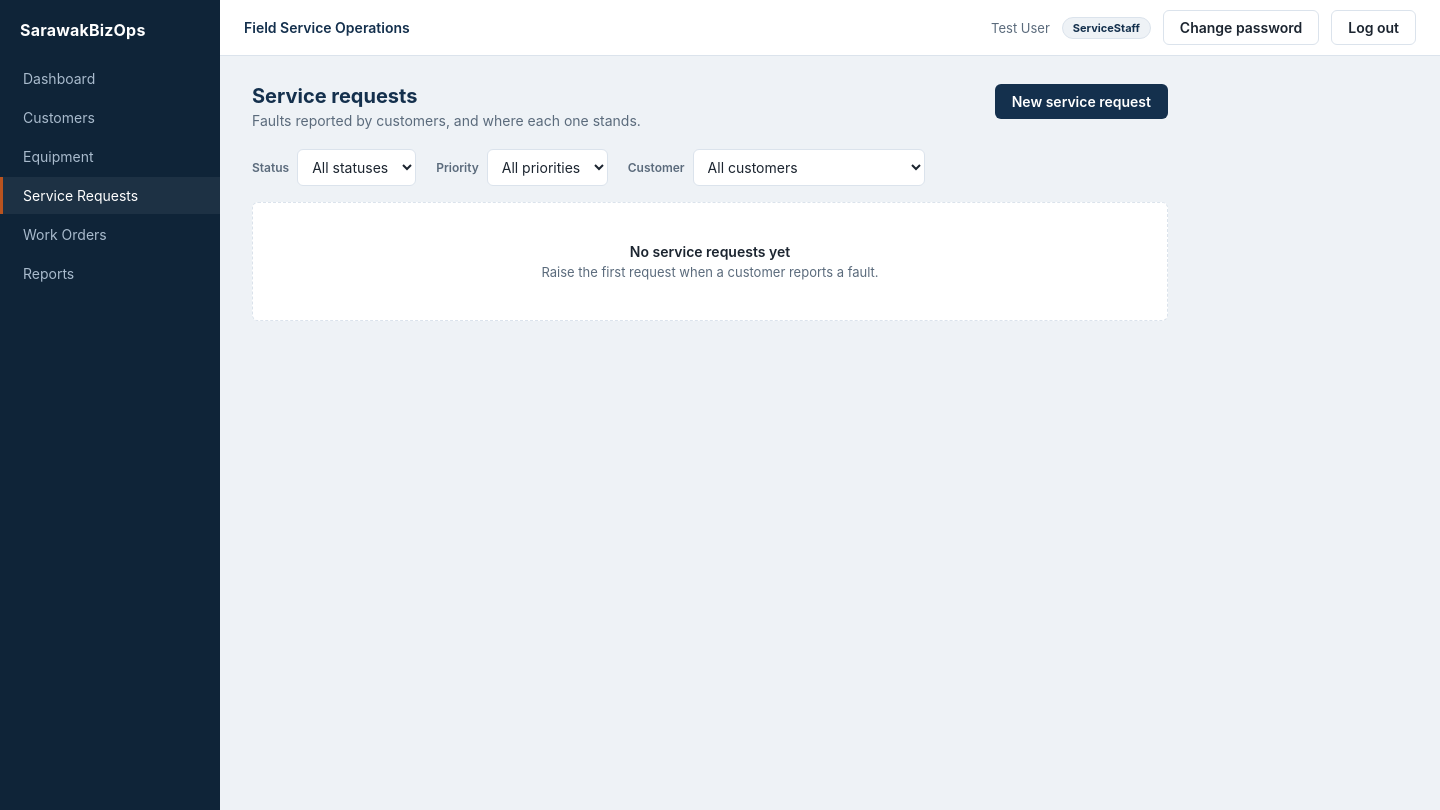
Test: Raising a request › shows the API message when the request is refused
The width and height of the screenshot is (1440, 810).
Click the button "New service request" at [1081, 102], box [995, 84, 1168, 119]
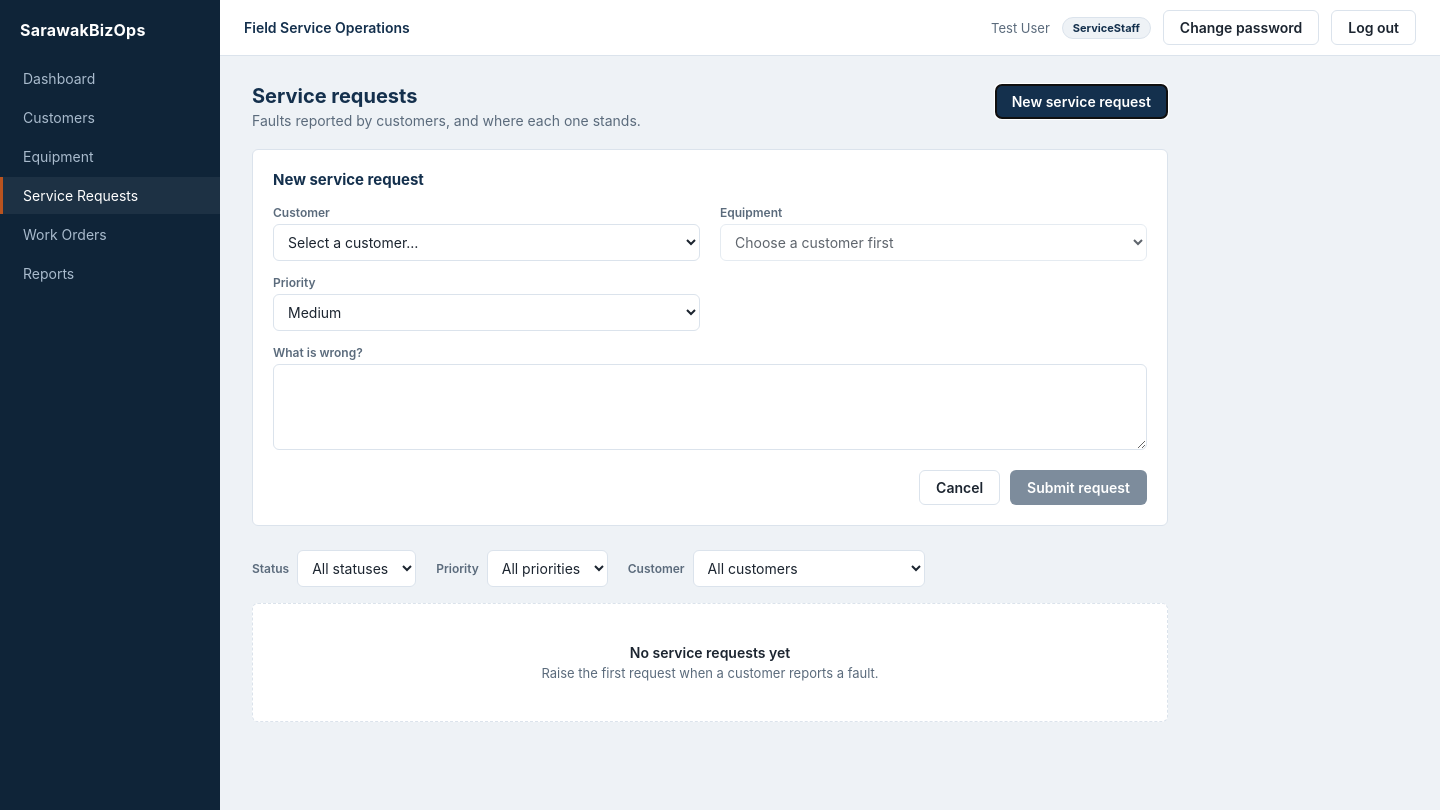
Select "Rajang Timber Mills Sdn Bhd" in the 1st dropdown labelled "Customer" at [486, 242], box [273, 224, 700, 261]
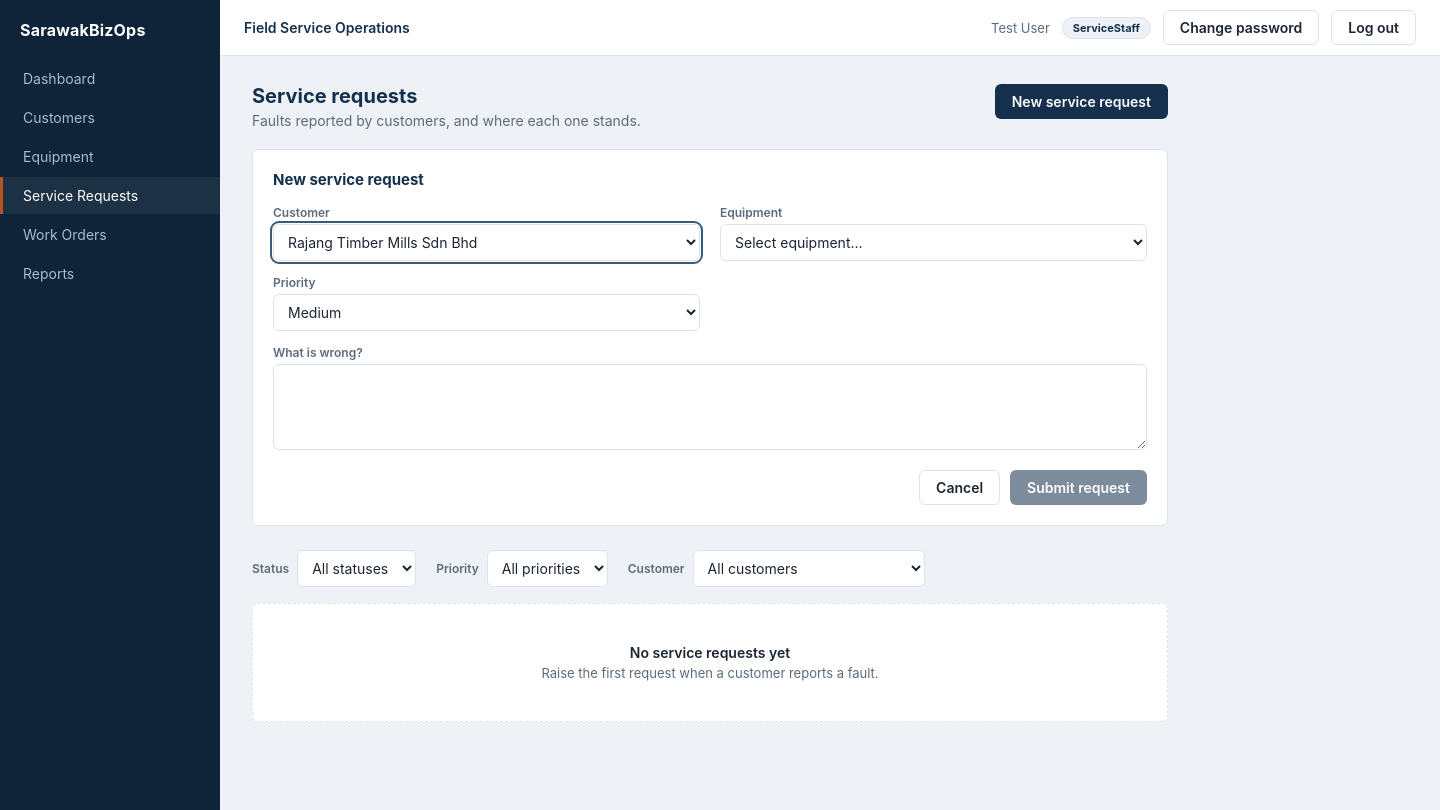
Now the dropdown labelled "Equipment" is enabled
Select "RTM-BSW-001 — Band Saw" in the dropdown labelled "Equipment" at [934, 242], box [720, 224, 1147, 261]
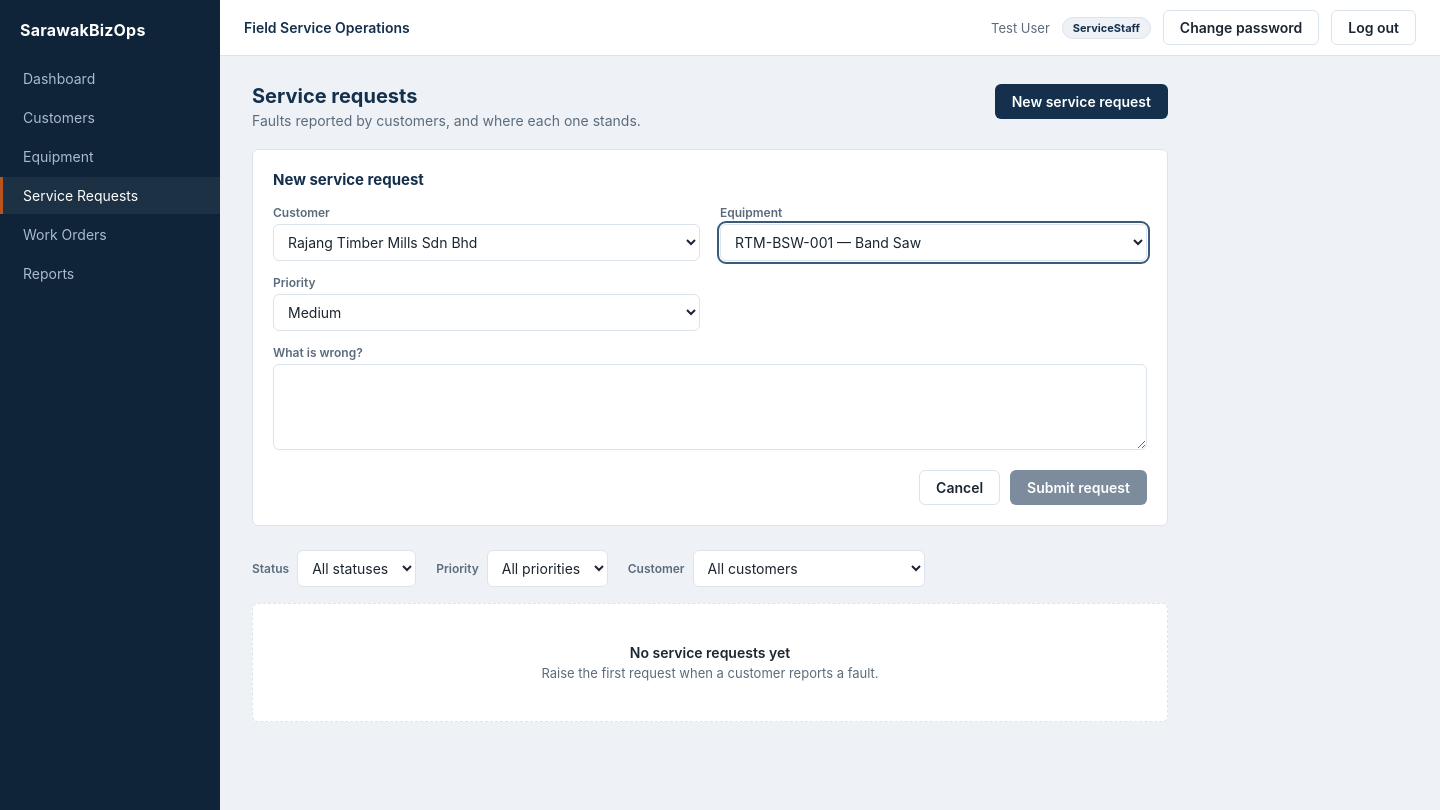
Type "Anything" into the text box labelled "What is wrong?" at [710, 407], box [273, 364, 1147, 450]
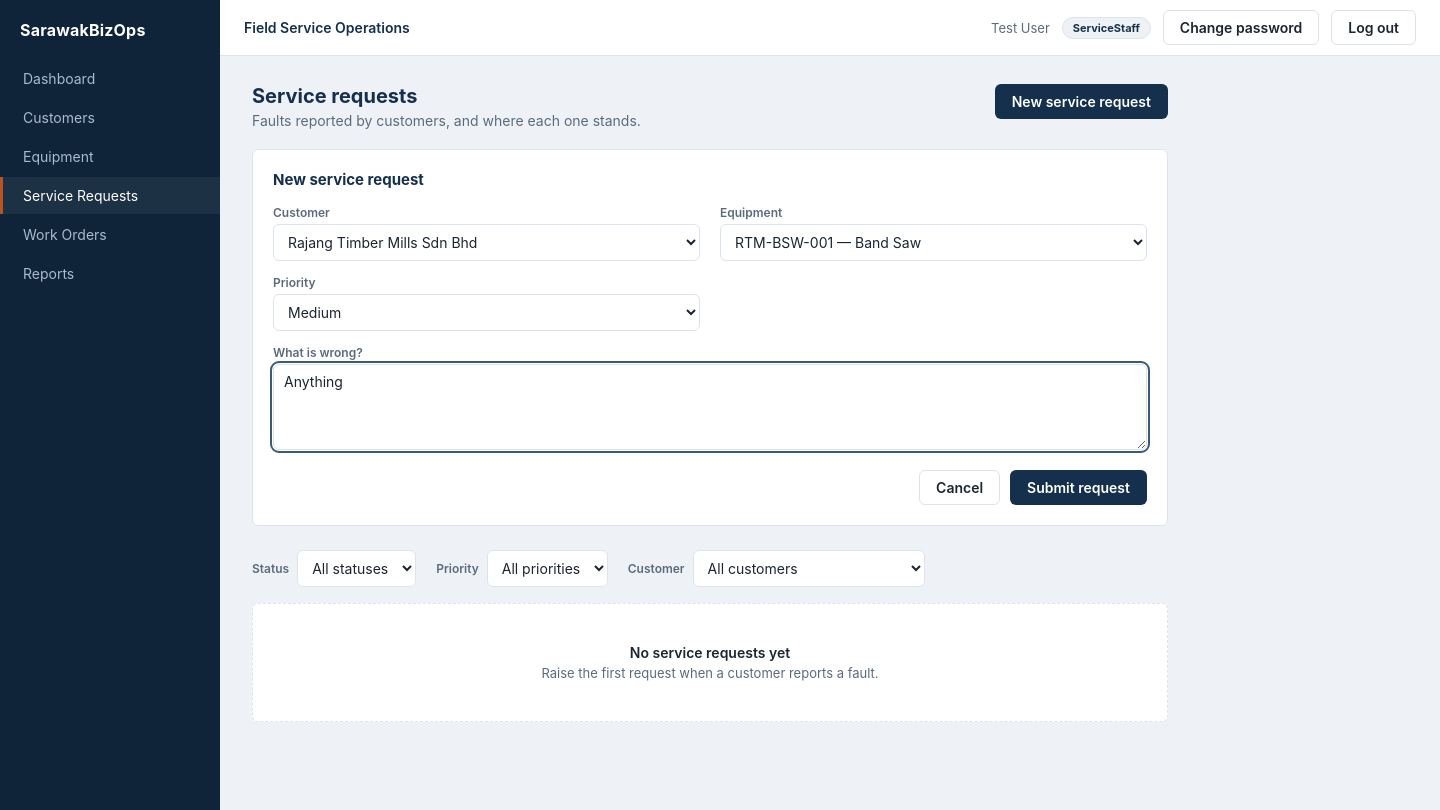
Click the button "Submit request" at [1079, 488], box [1010, 470, 1147, 505]
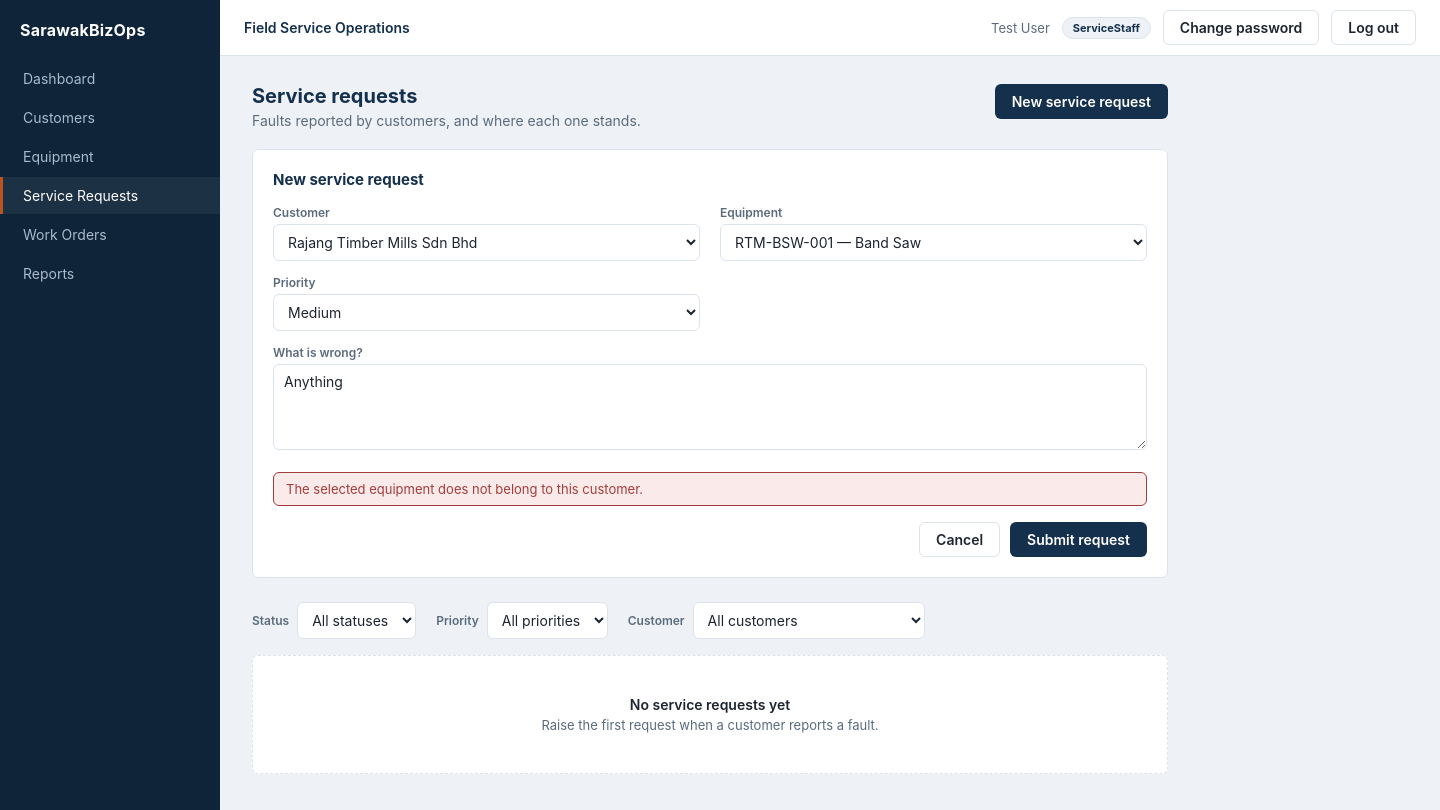
Now the text "The selected equipment does not belong to this customer." is shown, box [273, 472, 1147, 506]
